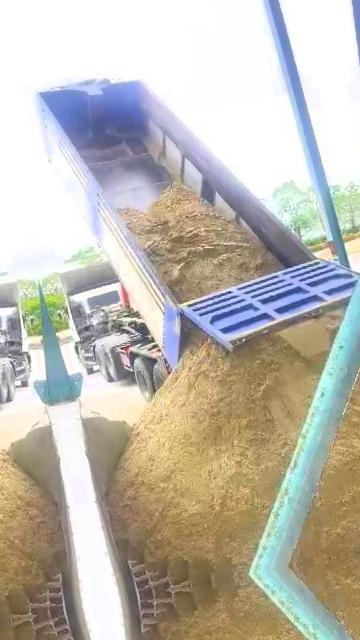sand: (108, 330, 320, 584), (122, 185, 280, 300), (295, 364, 360, 563), (281, 309, 344, 360), (85, 410, 129, 477)
